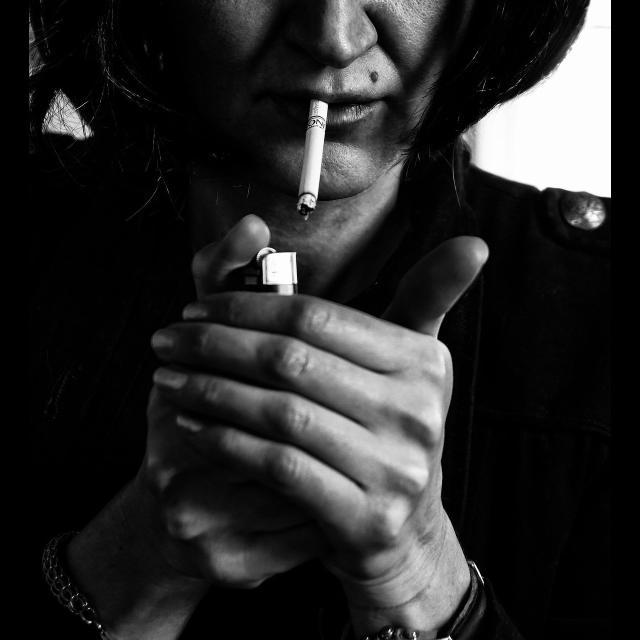rokok: (284, 90, 338, 218)
